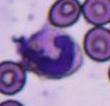N: (22, 27, 82, 79)
